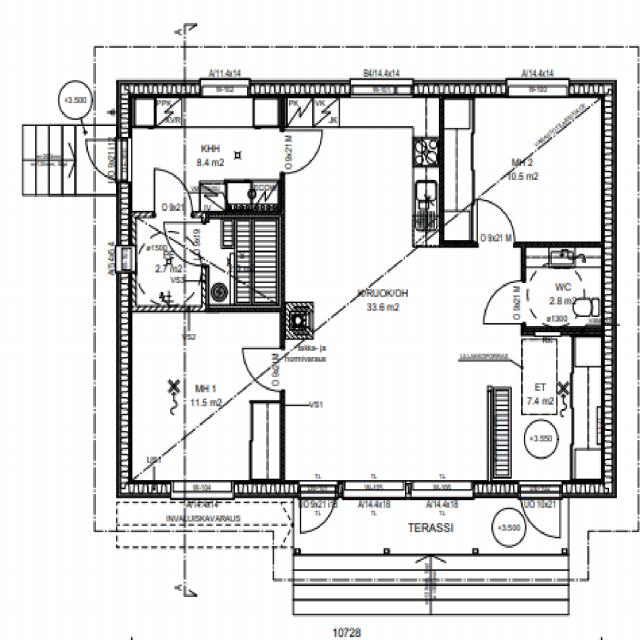door: (520, 480, 560, 544), (79, 139, 132, 181), (300, 480, 336, 539), (162, 222, 206, 266), (477, 198, 516, 247), (154, 168, 192, 218), (242, 348, 285, 392), (483, 280, 526, 324), (280, 130, 322, 173)
